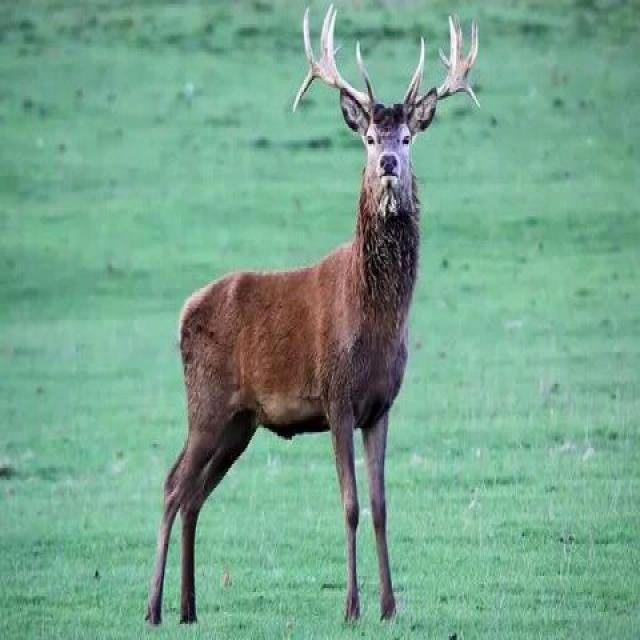deer: (153, 88, 522, 607)
